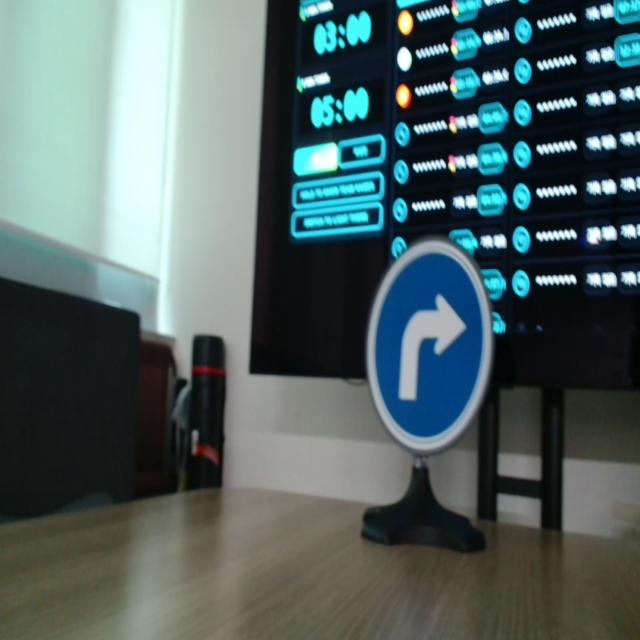right_dierection: (352, 224, 503, 456)
